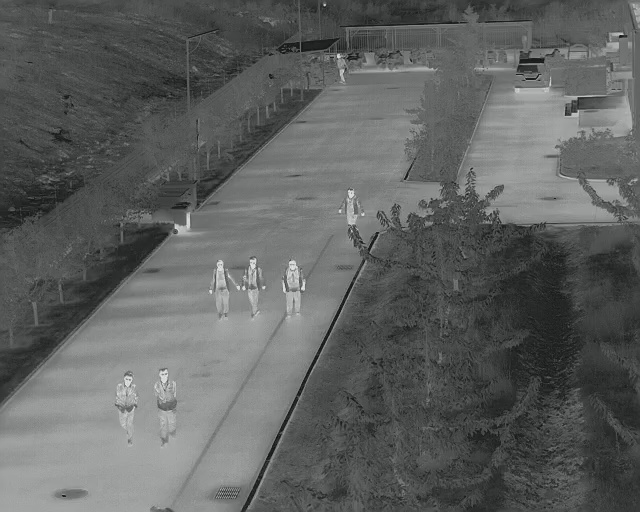person: (153, 369, 180, 450), (207, 257, 239, 323), (114, 370, 140, 451), (239, 256, 268, 322), (281, 258, 307, 321), (339, 186, 365, 229), (334, 52, 349, 86)
vehicle: (511, 56, 554, 97)
